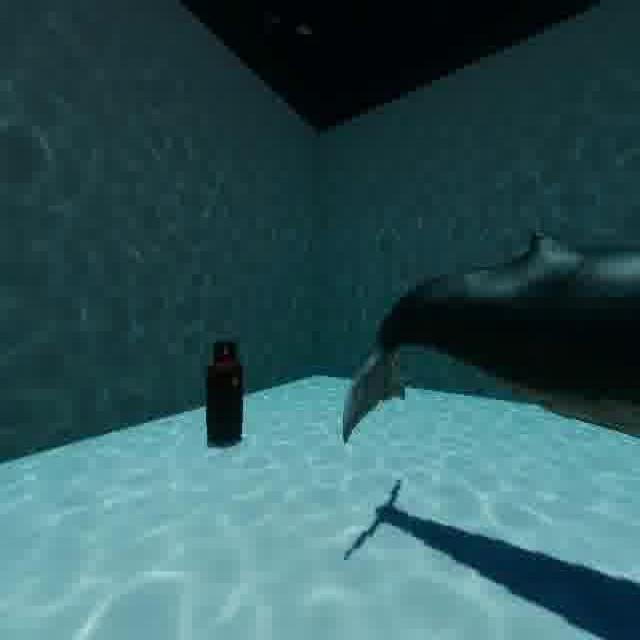Cylinder: (199, 320, 252, 470)
Whale: (317, 216, 640, 458)
